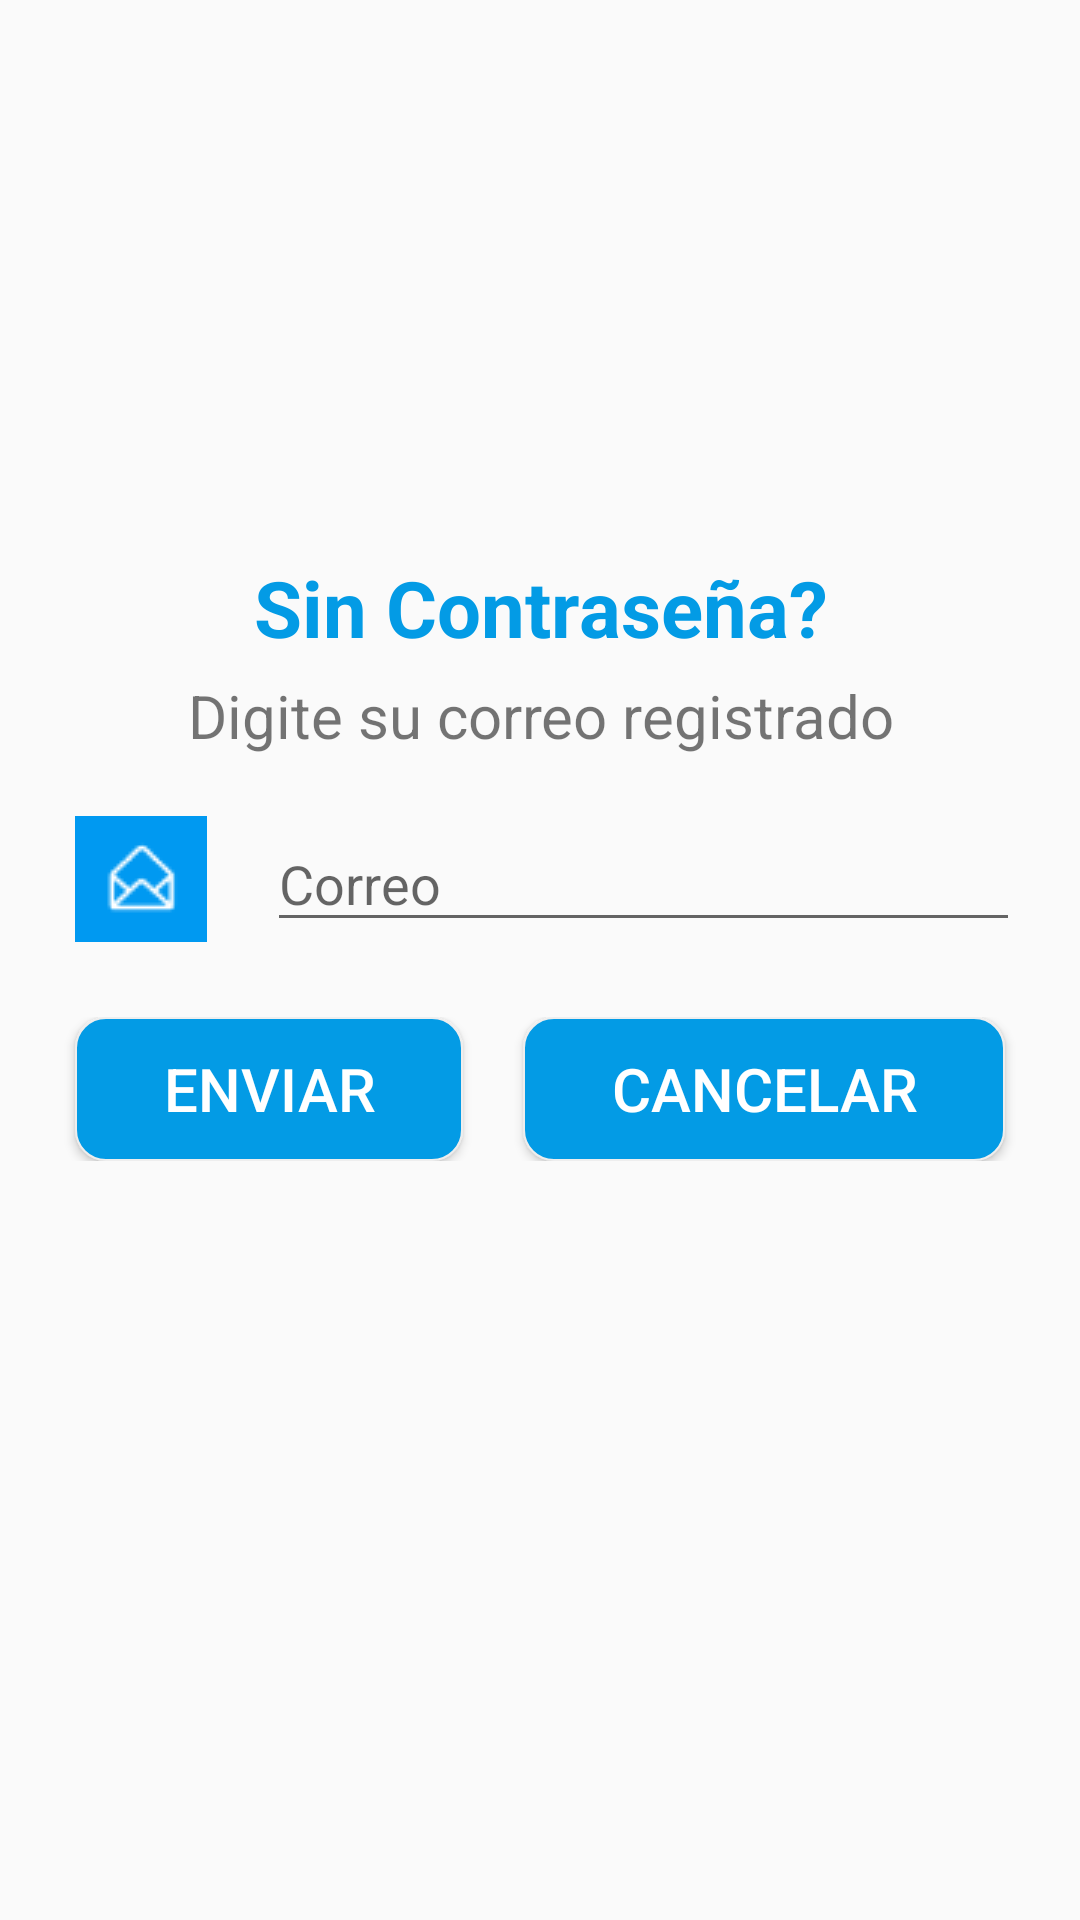

Named icons in this screenshot (1080px×1920px) and their bounding boxes, (x1=x1, y1=y1, x2=x2, y2=y2):
emailicon: (x1=75, y1=816, x2=207, y2=942)
